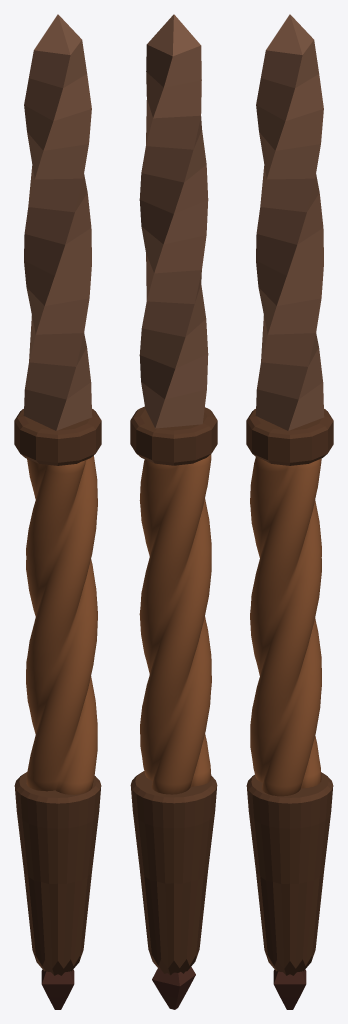
The model's file is Wand 855.glb.
The picture shows the model from 3 angles, left to right: view 1: azimuth 90°, elevation 25°; view 2: azimuth 150°, elevation 25°; view 3: azimuth 270°, elevation 25°; orthographic projection.
Visible parts, largest first — view 1: GeneratedWand; view 2: GeneratedWand; view 3: GeneratedWand.
Part boxes in pixels (x1=…): GeneratedWand: x1=14, y1=14, x2=101, y2=1009; GeneratedWand: x1=130, y1=14, x2=217, y2=1009; GeneratedWand: x1=246, y1=14, x2=333, y2=1009.
Size of the model in its own units: 0.0398 by 0.4994 by 0.0398.
